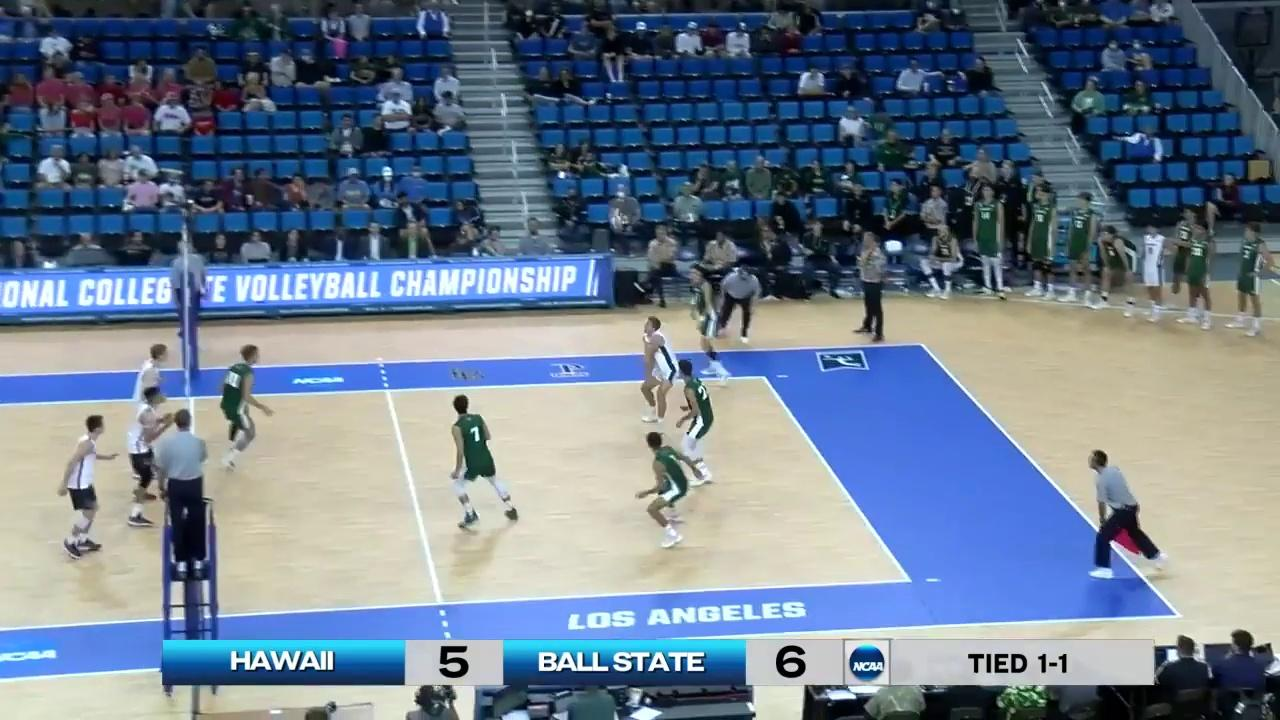player: (444, 395, 519, 529), (635, 431, 704, 549), (56, 417, 110, 561), (672, 361, 720, 488), (221, 346, 270, 469), (128, 386, 167, 526), (130, 344, 168, 481), (688, 266, 729, 387), (635, 316, 680, 426)
refree: (1086, 449, 1168, 581), (158, 407, 212, 576), (173, 244, 207, 346), (716, 269, 760, 346)
